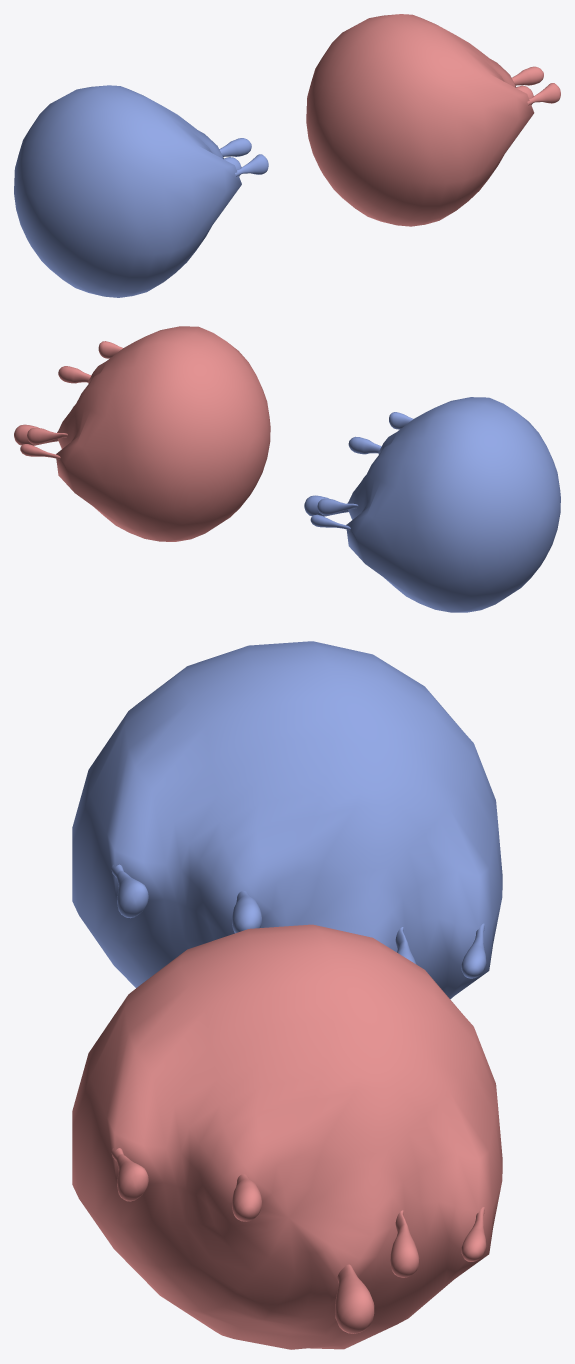
Rendered from bullet0222.fbx.
The picture shows the model from 3 angles, top to bottom: view 1: azimuth 30°, elevation 25°; view 2: azimuth 150°, elevation 25°; view 3: azimuth 270°, elevation 25°; orthographic projection. The views are drawn at different scales.
Parts seen in each view (by area): view 1: polySurface21, pasted__polySurface21; view 2: polySurface21, pasted__polySurface21; view 3: polySurface21, pasted__polySurface21.
Boxes of the visible parts, left/top/right/bottom form: polySurface21: left=306, top=14, right=560, bottom=226; pasted__polySurface21: left=14, top=85, right=268, bottom=297; polySurface21: left=14, top=326, right=270, bottom=541; pasted__polySurface21: left=304, top=397, right=560, bottom=612; polySurface21: left=72, top=924, right=502, bottom=1349; pasted__polySurface21: left=72, top=641, right=502, bottom=999.
Bounding box in the file's own units: 5.17 × 1.88 × 1.87.
